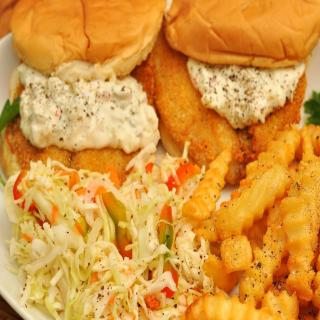Hamburger: (0, 0, 166, 177), (151, 0, 319, 157)
